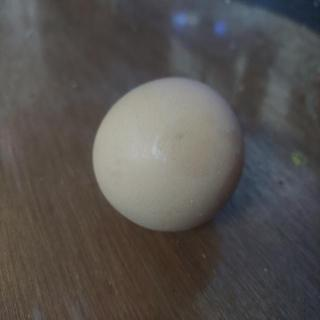Telur: (92, 74, 249, 238)
